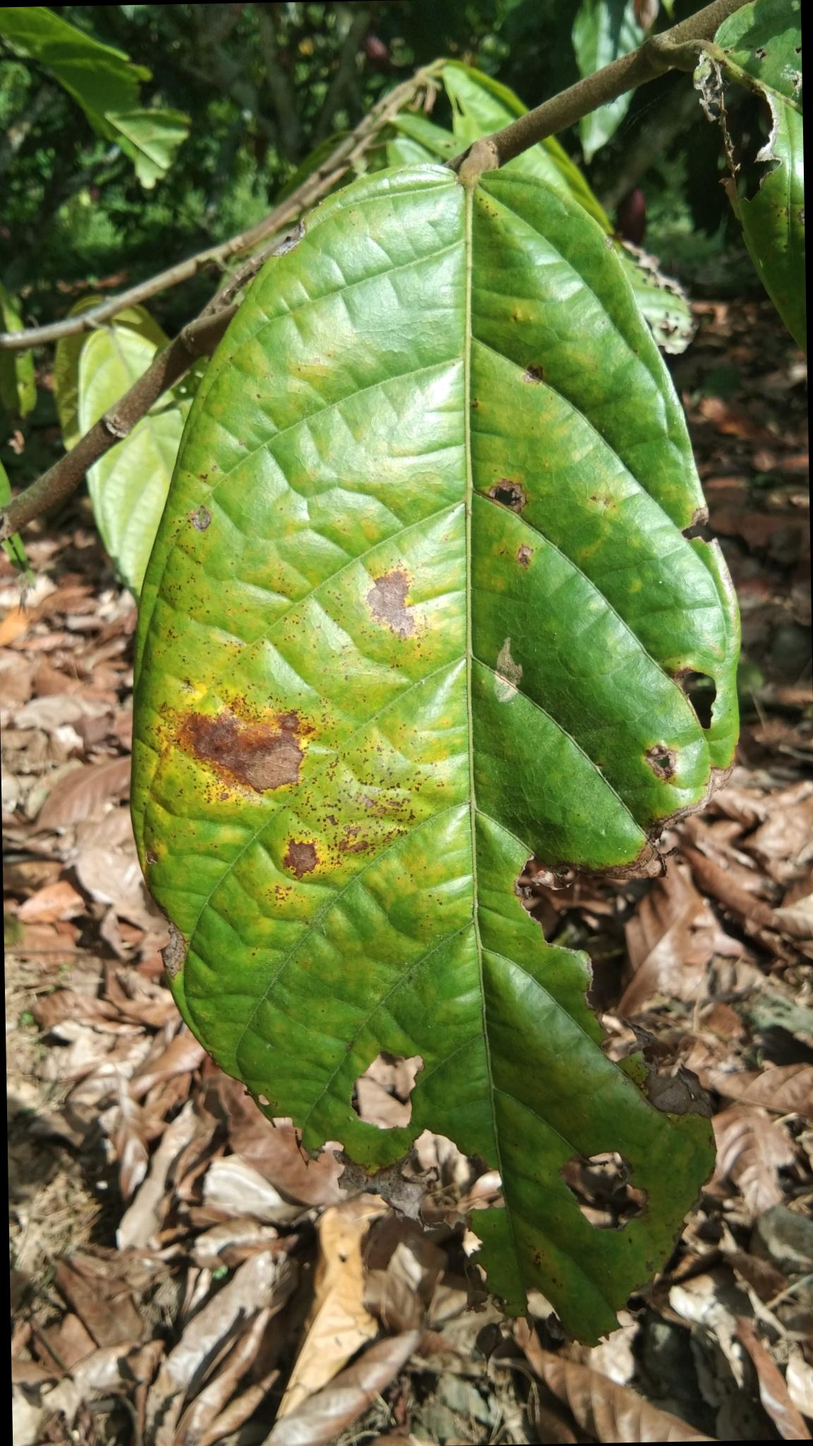Fosforo: (130, 158, 724, 1333)
